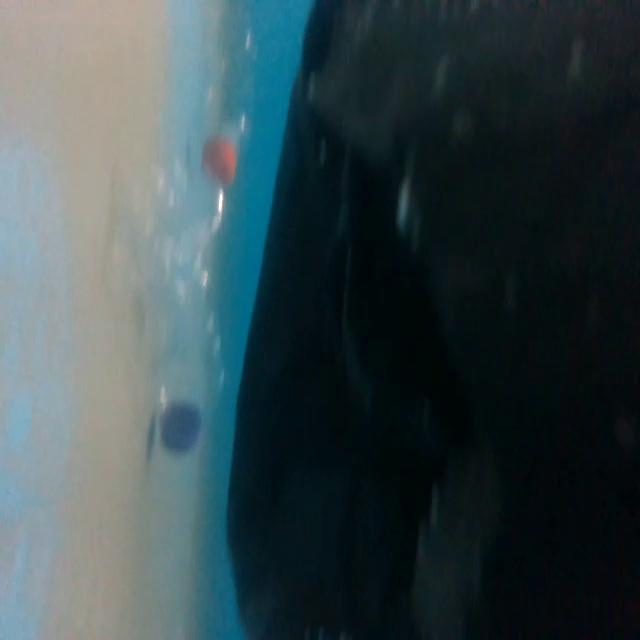plastic bags: (227, 1, 640, 640)
plastic bottle: (126, 160, 223, 471), (201, 15, 258, 189)
